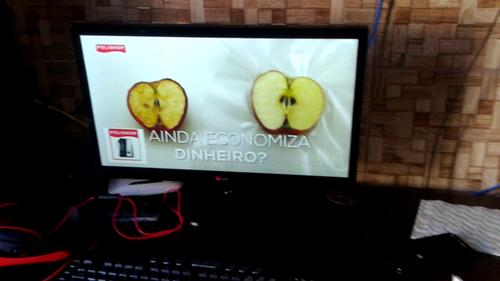Polishop #1: (103, 127, 147, 165)
